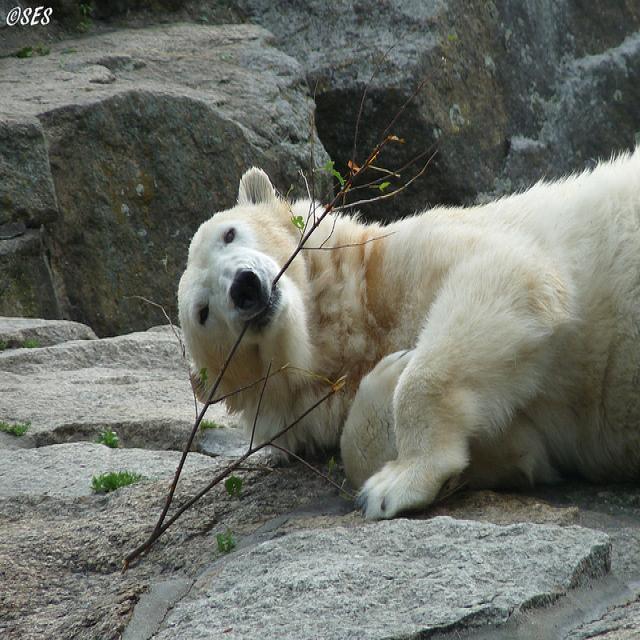Bear: (165, 143, 640, 509)
